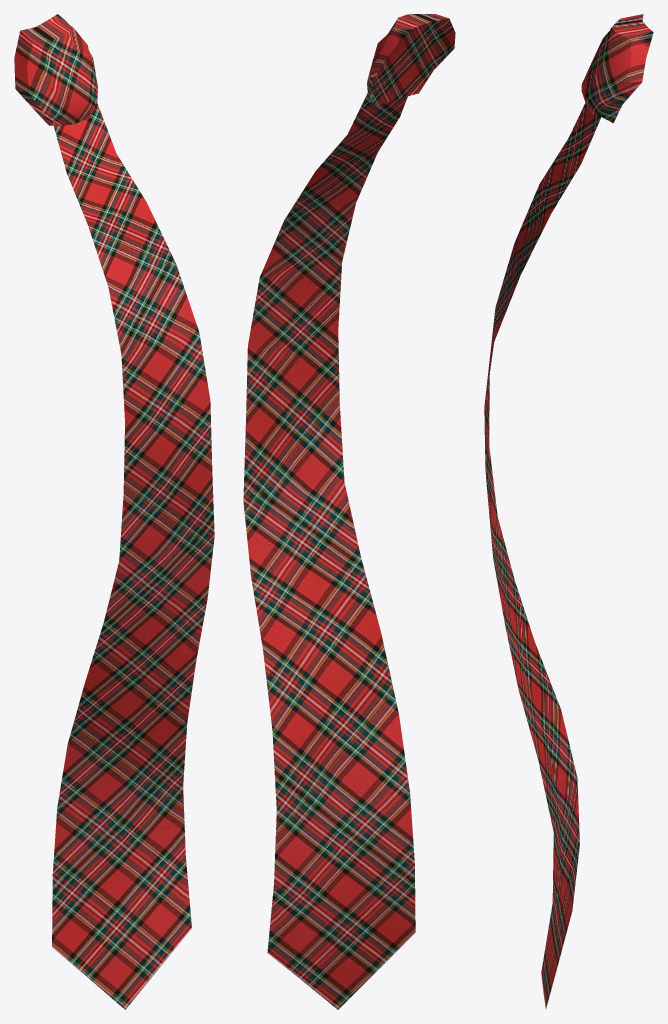
File: Pose-2_SuitTie-1.fbx
3 views of the same model, side by side, from view 1: azimuth 30°, elevation 25°; view 2: azimuth 210°, elevation 25°; view 3: azimuth 270°, elevation 25° (orthographic). The views are drawn at different scales.
Visible parts, largest first — view 1: Pose-2_SuitTie-1; view 2: Pose-2_SuitTie-1; view 3: Pose-2_SuitTie-1.
Boxes of the visible parts, bbox=[...] form: Pose-2_SuitTie-1: bbox=[14, 14, 214, 1009]; Pose-2_SuitTie-1: bbox=[243, 14, 455, 1009]; Pose-2_SuitTie-1: bbox=[484, 14, 653, 1008].
Size of the model in its own units: 7.69 by 50.37 by 7.96.
